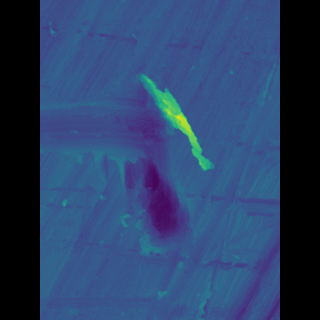Loch: (117, 67, 194, 270)
